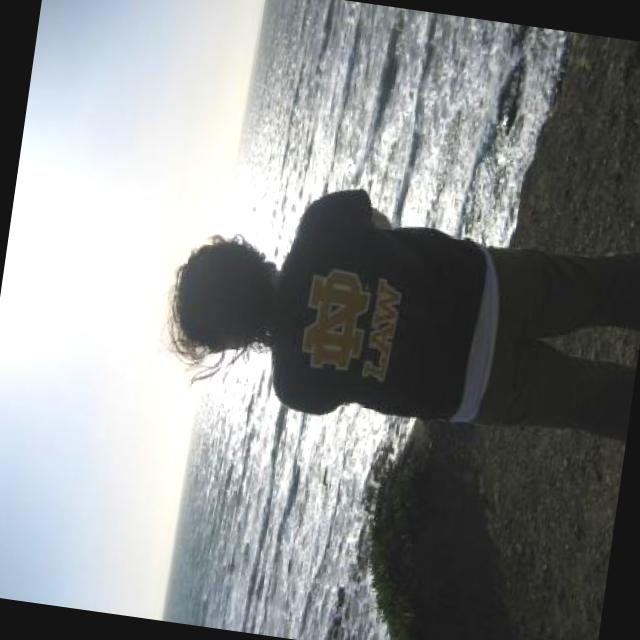Person: (135, 121, 640, 501)
